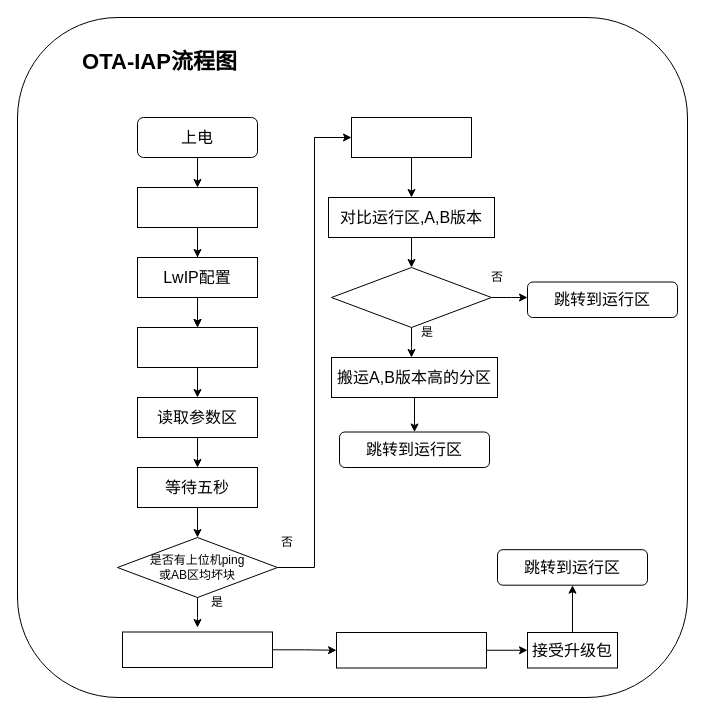
This 705x715 diagram has some shape labels left out. Each missing label, with the centre of its shape:
"WiFi配置" belongs at (197,347).
"接收到升级指令" belongs at (411,650).
"时钟硬件初始化" belongs at (197,207).
"查看参数" belongs at (411,137).
"运行区版本偏低" belongs at (411,297).
"进入永久升级模式" belongs at (197,649).
